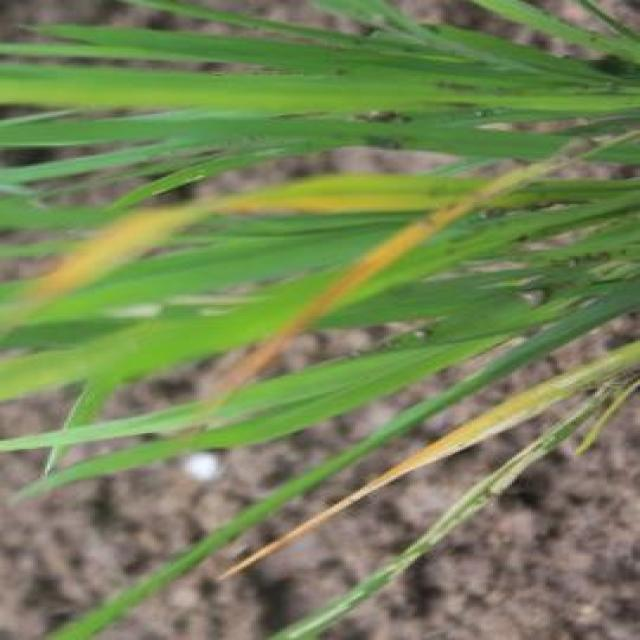Tungro: (224, 383, 601, 578), (18, 177, 444, 316)
